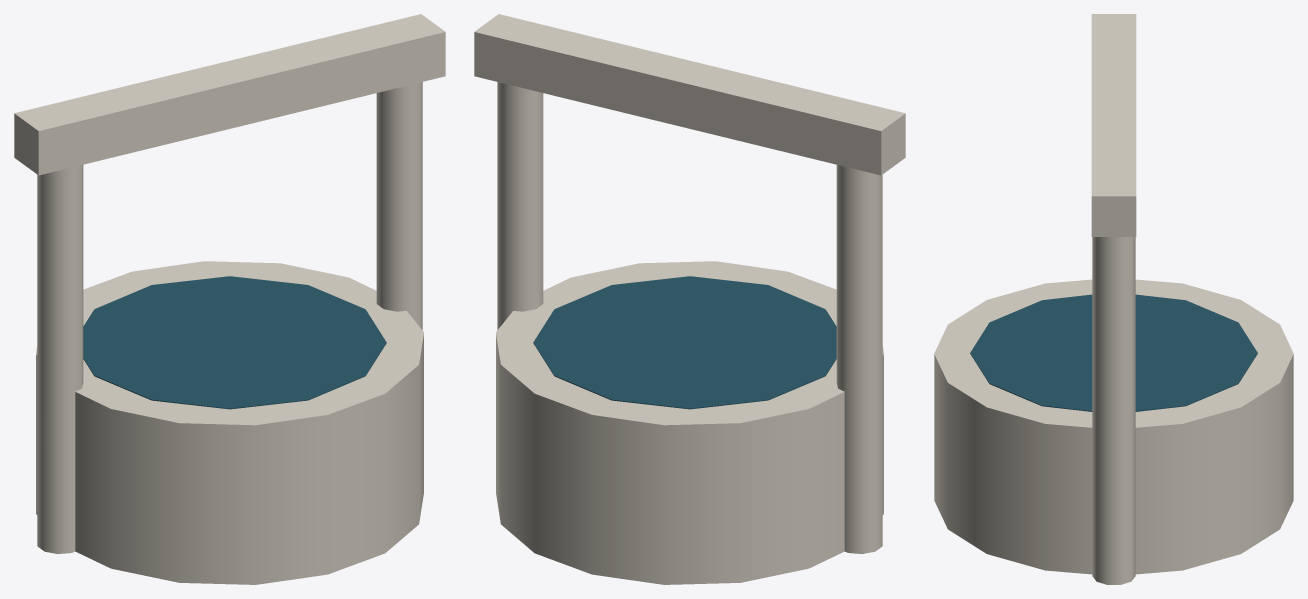
The model's file is well.glb.
3 views of the same model, side by side, from view 1: azimuth 30°, elevation 25°; view 2: azimuth 150°, elevation 25°; view 3: azimuth 270°, elevation 25° (orthographic). The views are drawn at different scales.
Parts seen in each view (by area): view 1: Well; view 2: Well; view 3: Well.
Part boxes in pixels (left/top/right/bottom): Well: left=14, top=14, right=445, bottom=584; Well: left=474, top=14, right=905, bottom=584; Well: left=934, top=14, right=1293, bottom=584.
Size of the model in its own units: 2.4 by 2.42 by 2.
